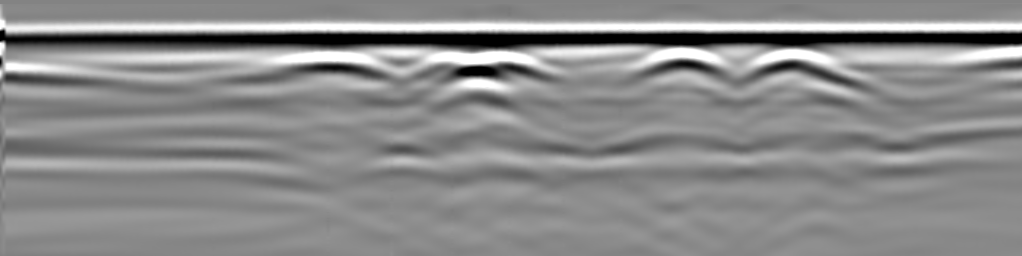steel: (619, 47, 743, 82), (260, 51, 400, 79), (736, 48, 847, 83), (409, 52, 555, 78)
